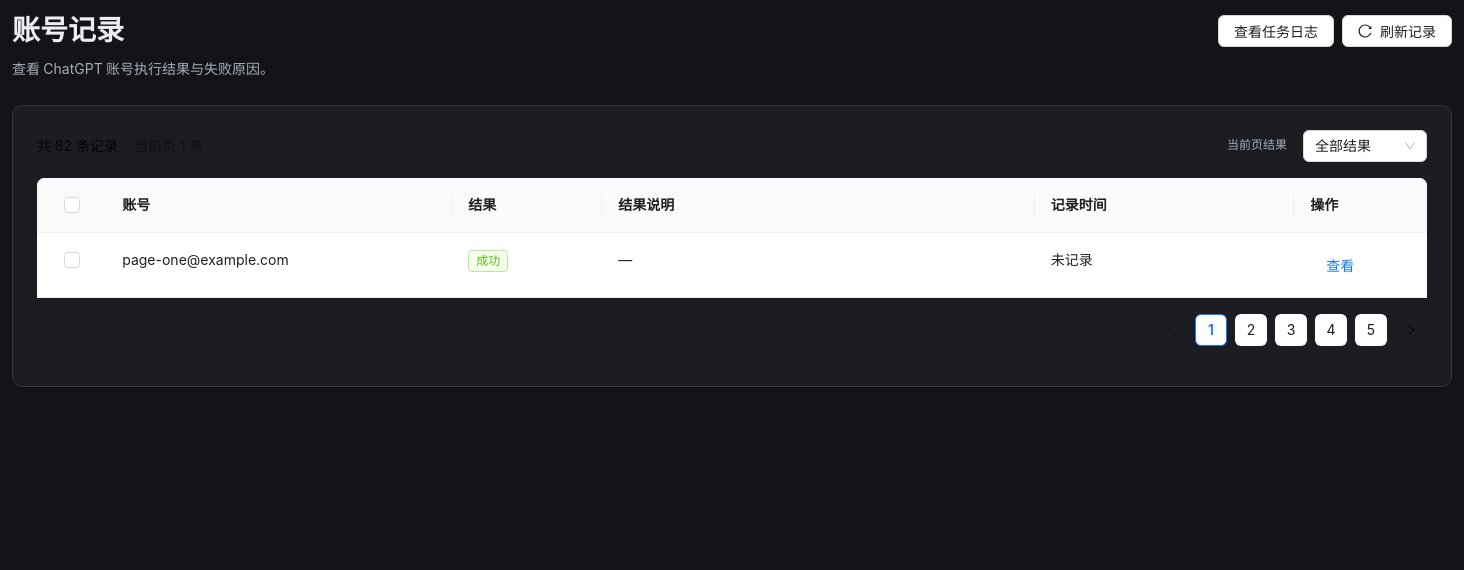
TaskHistory details and stale page protection › does not present an old page as the selected page after a failed request
expect the text "page-one@example.com" is shown: met, box [122,251,289,268]
What coordinates should you click on to do the following:
click the list item titled "2"
I would click on:
 (1251, 330)
Its box is [1235,314,1267,346].
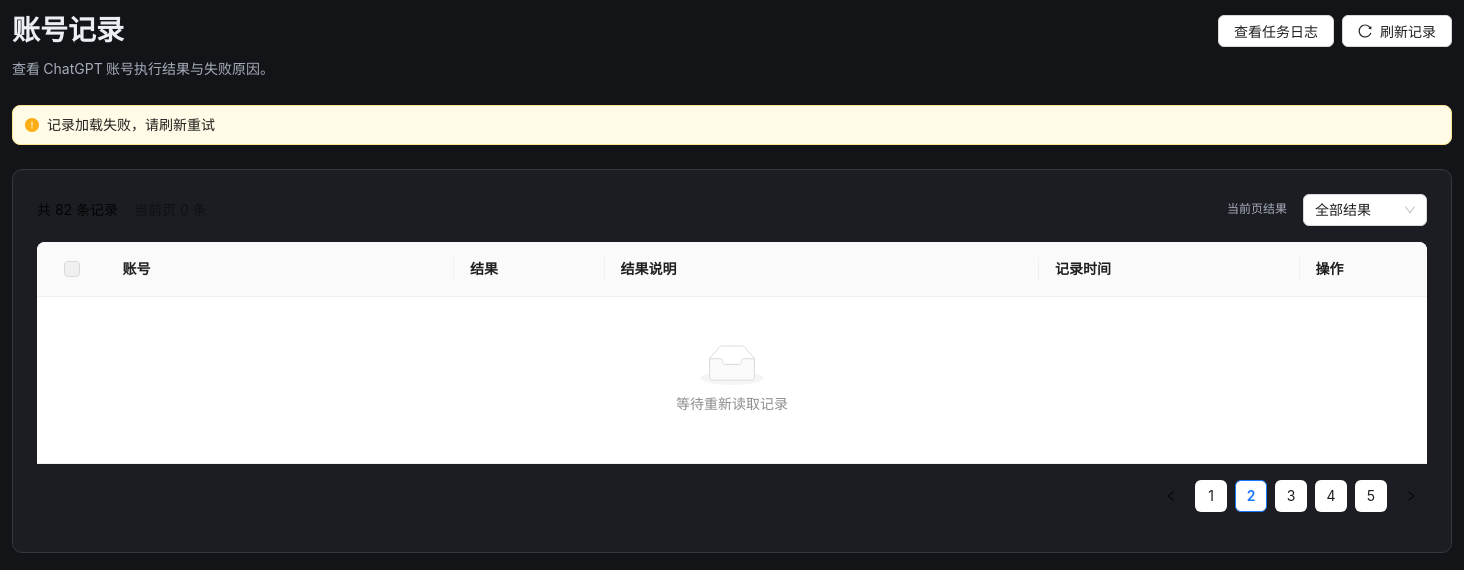
expect the text "记录加载失败，请刷新重试" is shown: met, box [47,116,215,133]
expect the text "page-one@example.com" is gone: met
